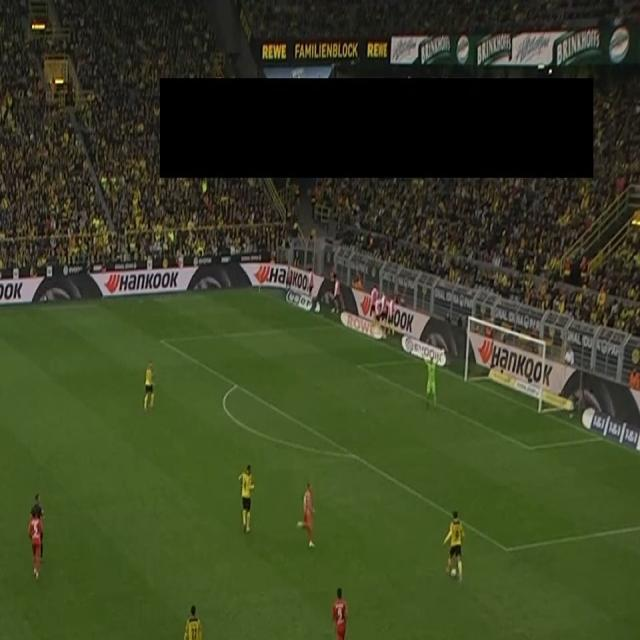ball: (450, 566, 458, 580)
